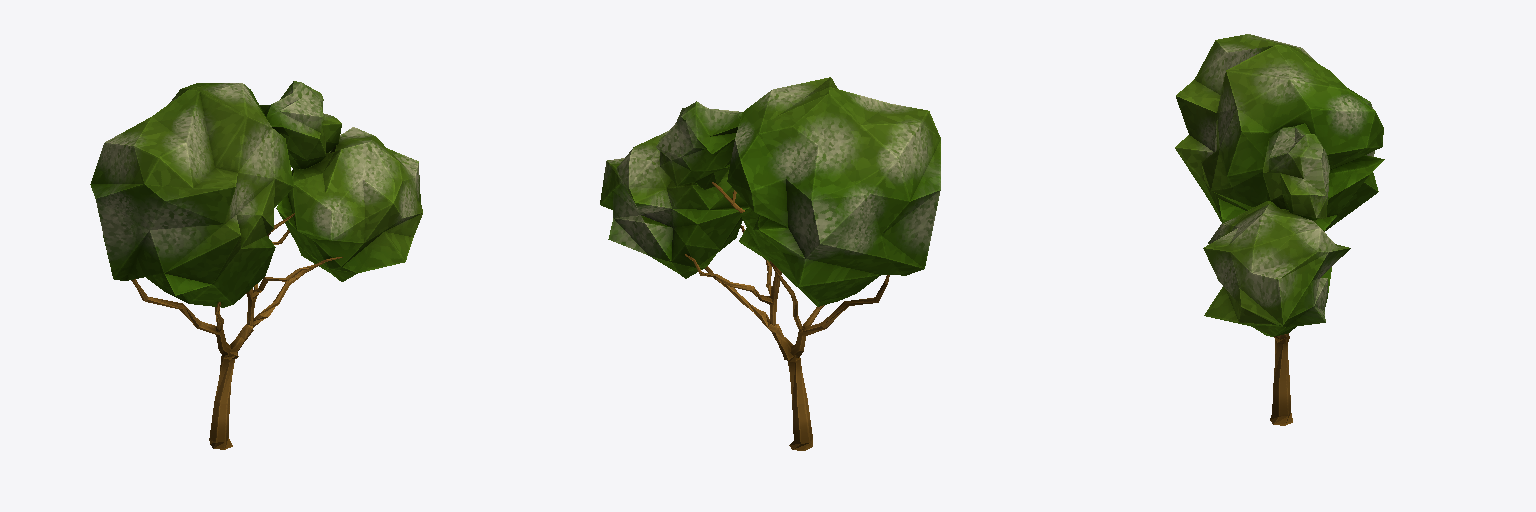
3 views of the same model, side by side, from view 1: azimuth 30°, elevation 25°; view 2: azimuth 150°, elevation 25°; view 3: azimuth 270°, elevation 25° (orthographic).
Parts seen in each view (by area): view 1: BloodwoodTree_mesh; view 2: BloodwoodTree_mesh; view 3: BloodwoodTree_mesh.
Boxes of the visible parts, x1,y1,x2,y2 form: BloodwoodTree_mesh: [90, 81, 422, 449]; BloodwoodTree_mesh: [600, 77, 940, 450]; BloodwoodTree_mesh: [1175, 34, 1384, 425].
Size of the model in its own units: 11.3 by 11.77 by 6.2.
Materials: 1 (1 with a texture image).